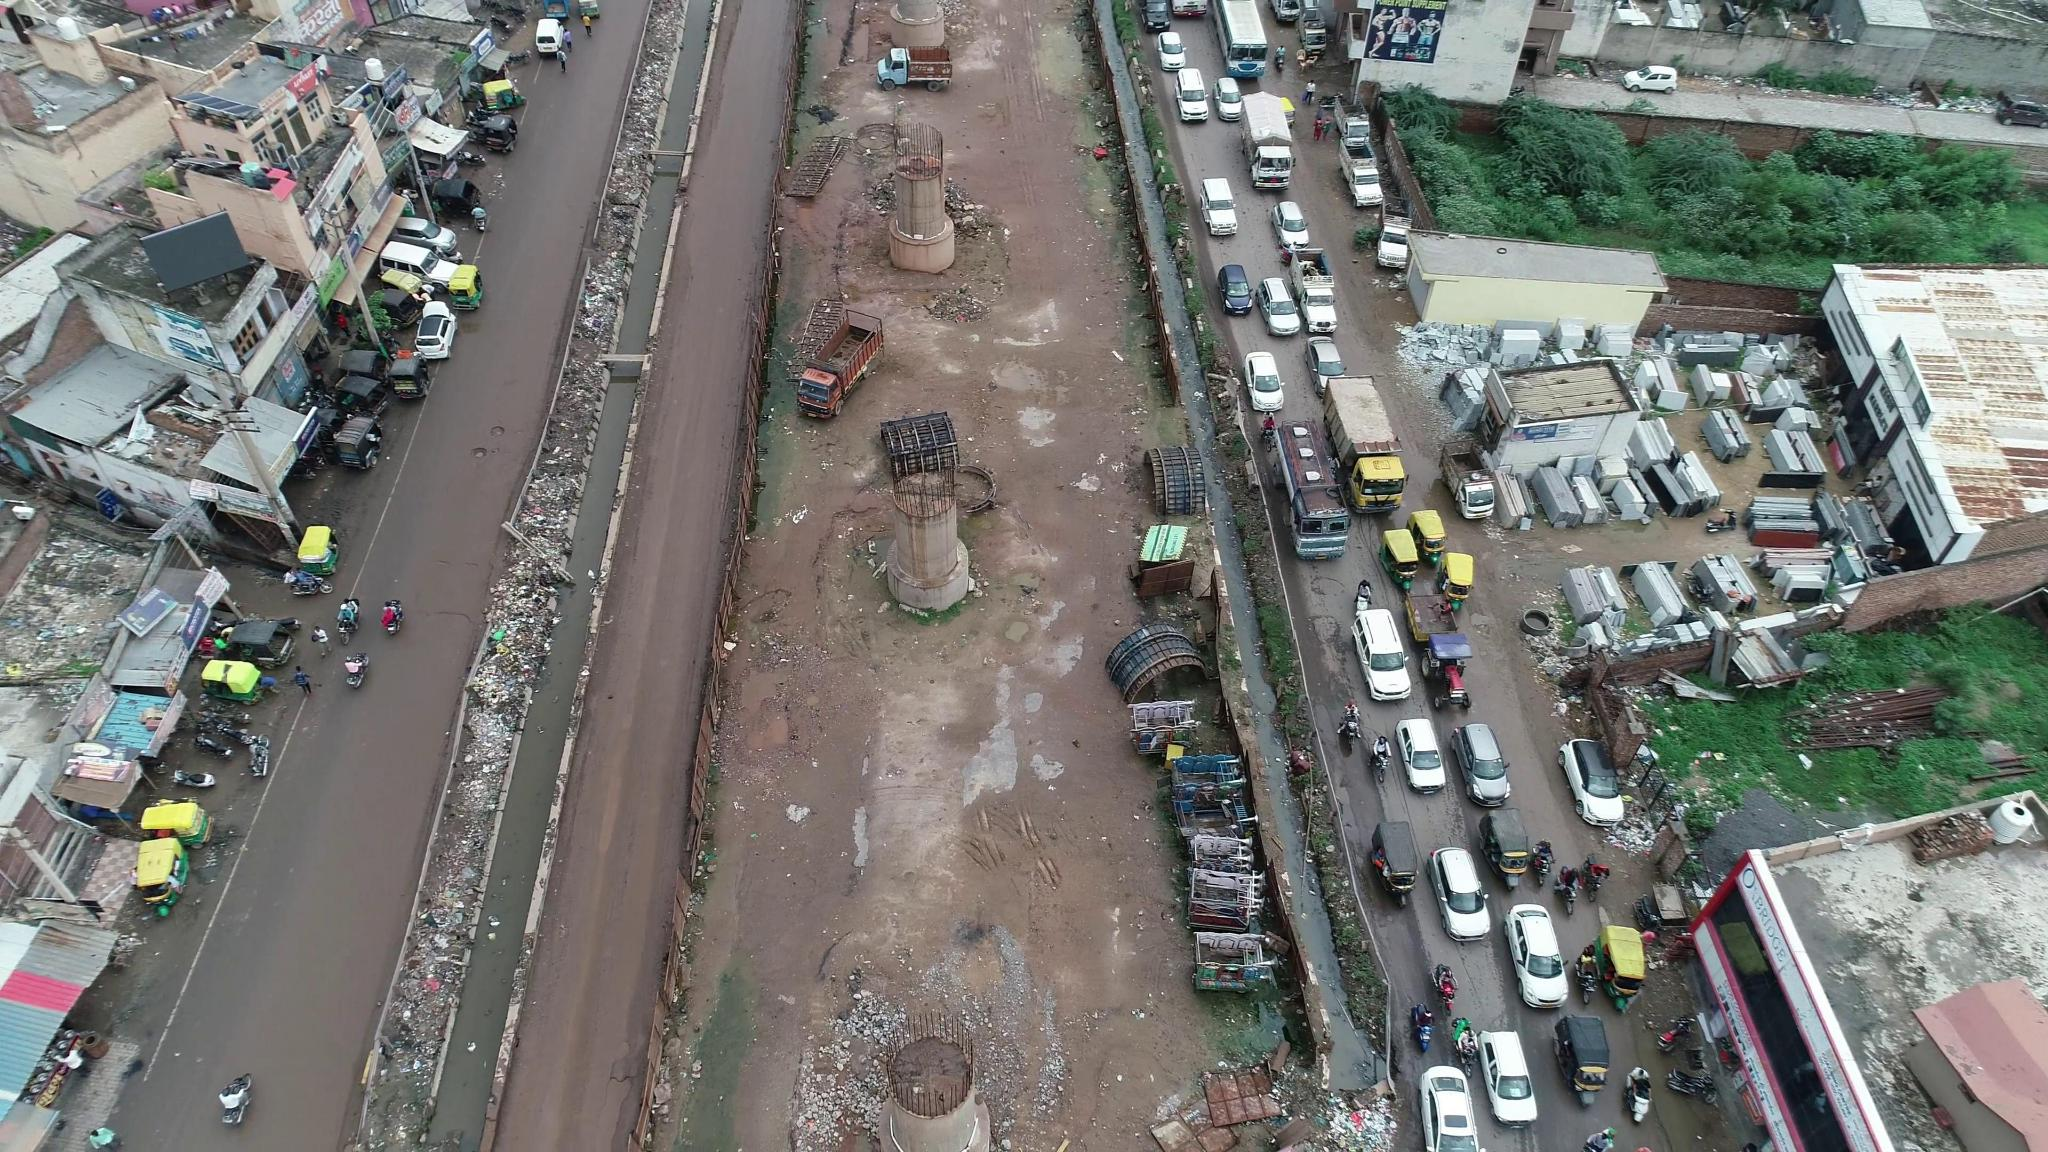Road_side_garbage: (452, 571, 556, 792)
